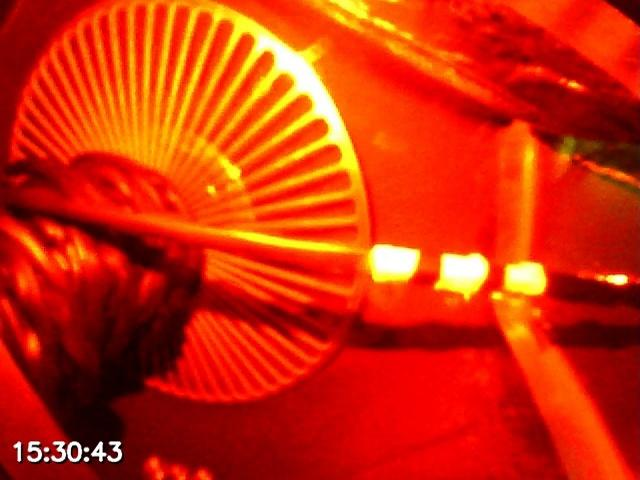white-dots: (367, 243, 547, 296)
